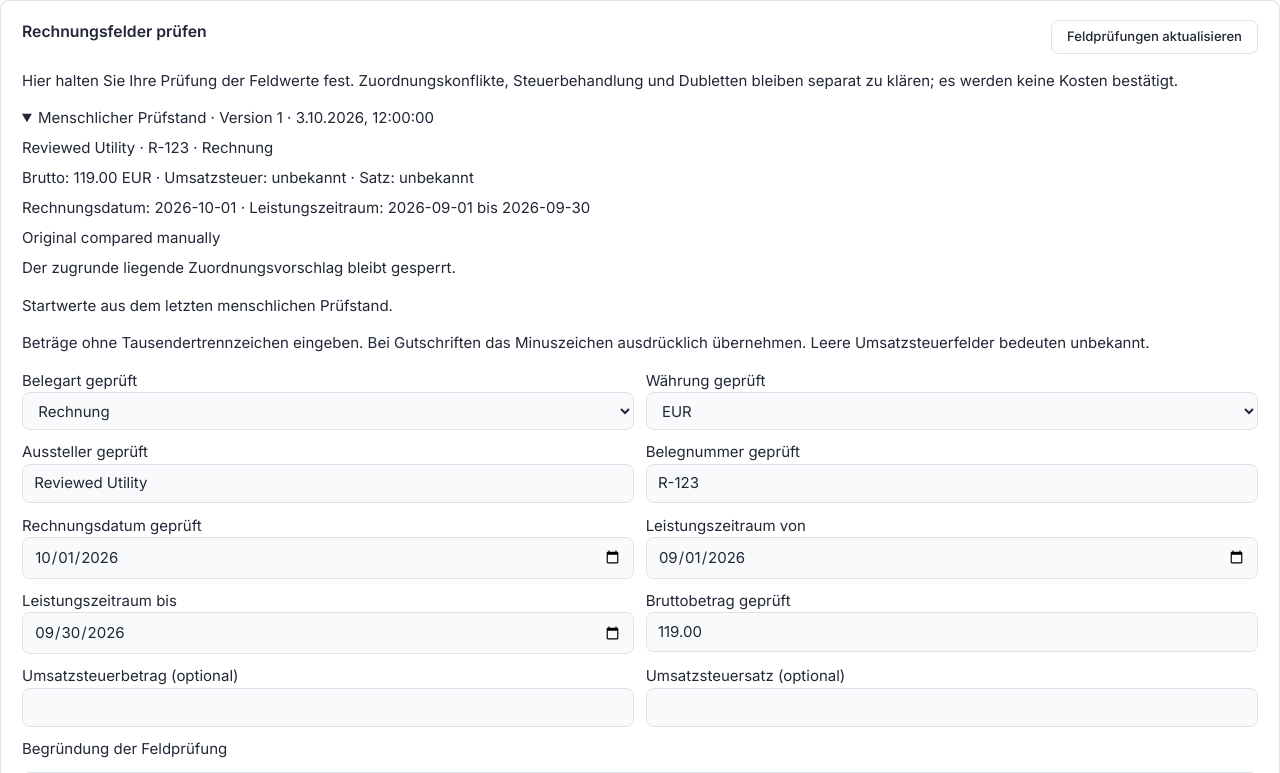
Test case: drops private review history and pending inputs on source denial
expect the heading "Menschlicher Prüfstand · Version 1 · 3.10.2026, 12:00:00" is shown: met, box top-left (38, 108), bottom-right (434, 127)
Click the button "Feldprüfungen aktualisieren": (1154,37) top-left (1051, 20), bottom-right (1258, 54)
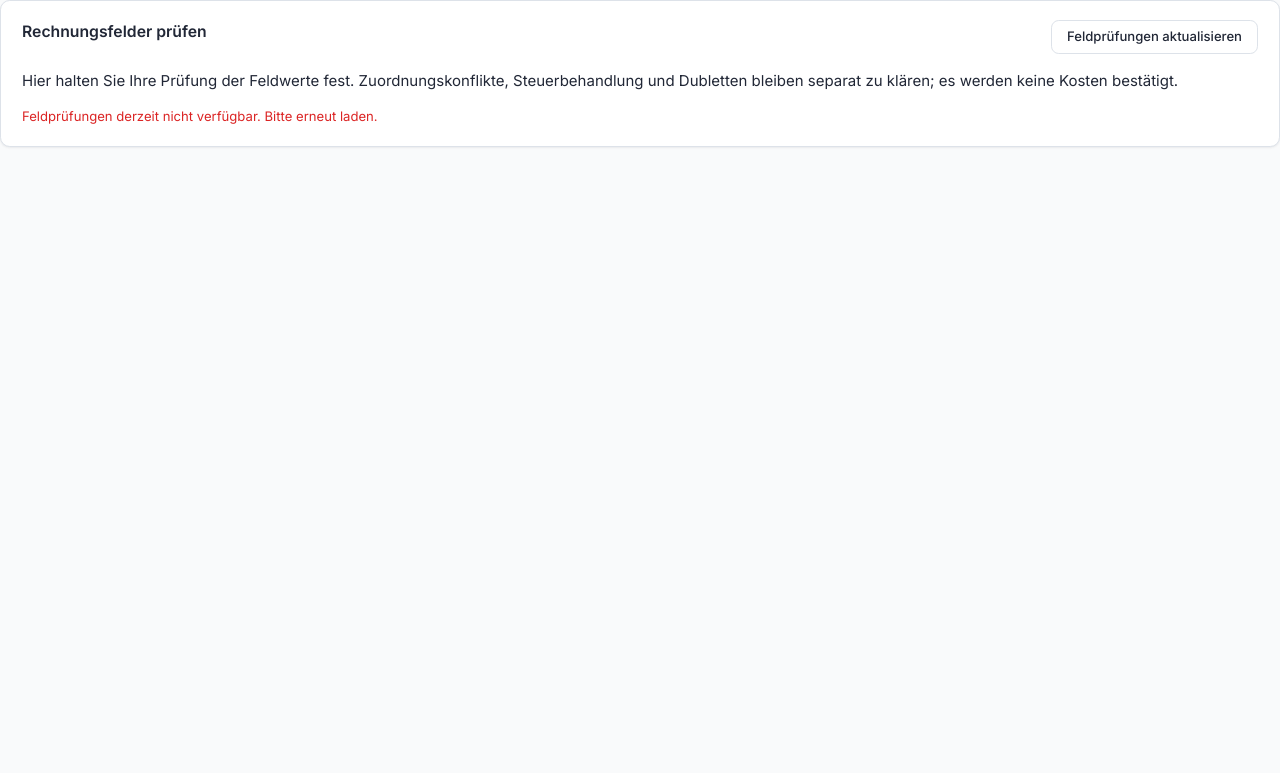
expect the text "Feldprüfungen derzeit nicht verfügbar. Bitte erneut laden." is shown: met, box top-left (22, 108), bottom-right (378, 124)
expect the text "Original compared manually" is gone: met
expect the label labelled "Aussteller geprüft" is gone: met
